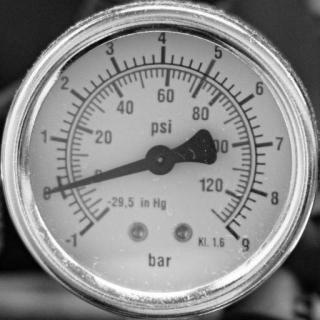gauge: (0, 0, 320, 320), (141, 144, 176, 178), (220, 217, 252, 253), (67, 214, 98, 247), (38, 184, 60, 202)
